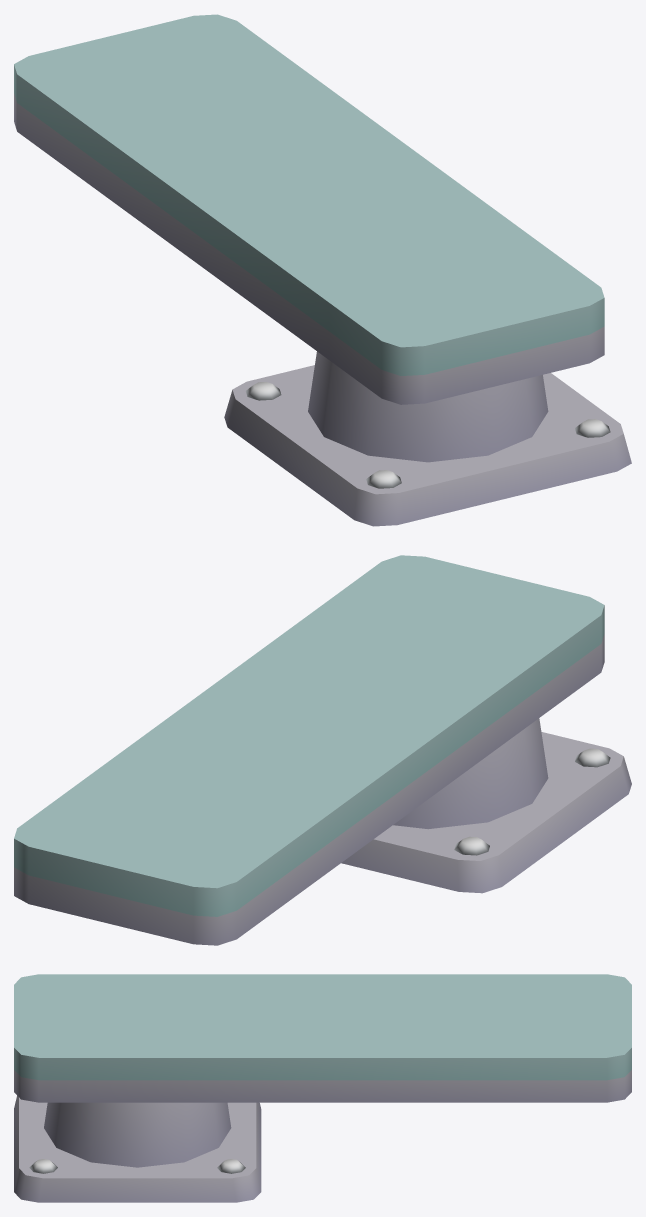
Rendered from pool-diving-board.glb.
3 renders of one model, top to bottom at view 1: azimuth 30°, elevation 25°; view 2: azimuth 150°, elevation 25°; view 3: azimuth 270°, elevation 25°, orthographic. The views are drawn at different scales.
Parts seen in each view (by area): view 1: pool-diving-board; view 2: pool-diving-board; view 3: pool-diving-board.
Boxes of the visible parts, box(x1,y1,x2,y2) form: pool-diving-board: box(14, 14, 631, 526); pool-diving-board: box(14, 555, 631, 945); pool-diving-board: box(14, 974, 631, 1202).
Size of the model in its own units: 0.5 by 0.3 by 1.25.
